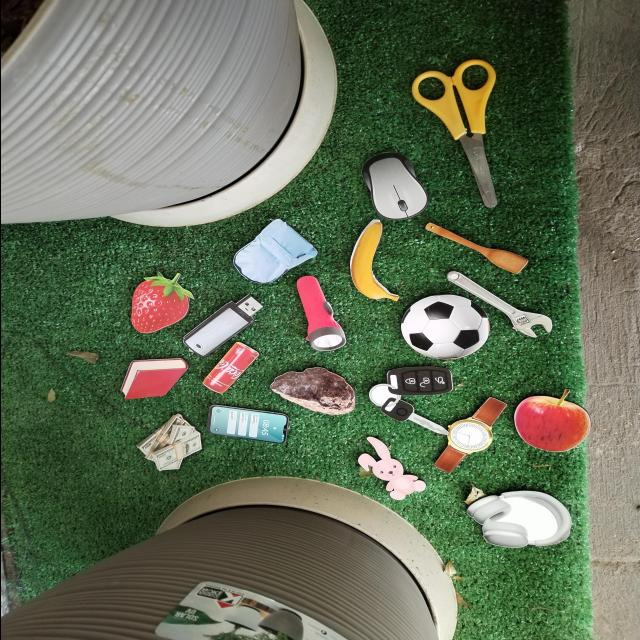Other Objects: (409, 59, 498, 208), (219, 217, 320, 292), (445, 271, 552, 338), (464, 488, 573, 550), (397, 293, 492, 362), (177, 291, 269, 360), (353, 147, 434, 224), (277, 273, 350, 355), (369, 366, 452, 435), (433, 397, 506, 474), (338, 219, 399, 306), (424, 223, 528, 274), (513, 389, 590, 453), (355, 436, 425, 501), (268, 367, 355, 416), (134, 413, 202, 472), (198, 341, 260, 396), (206, 405, 288, 444)
